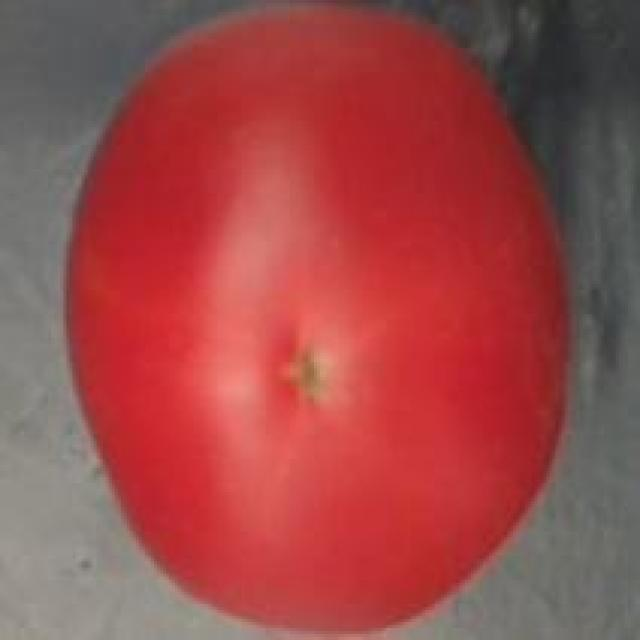ripe tomato: (54, 0, 589, 640)
